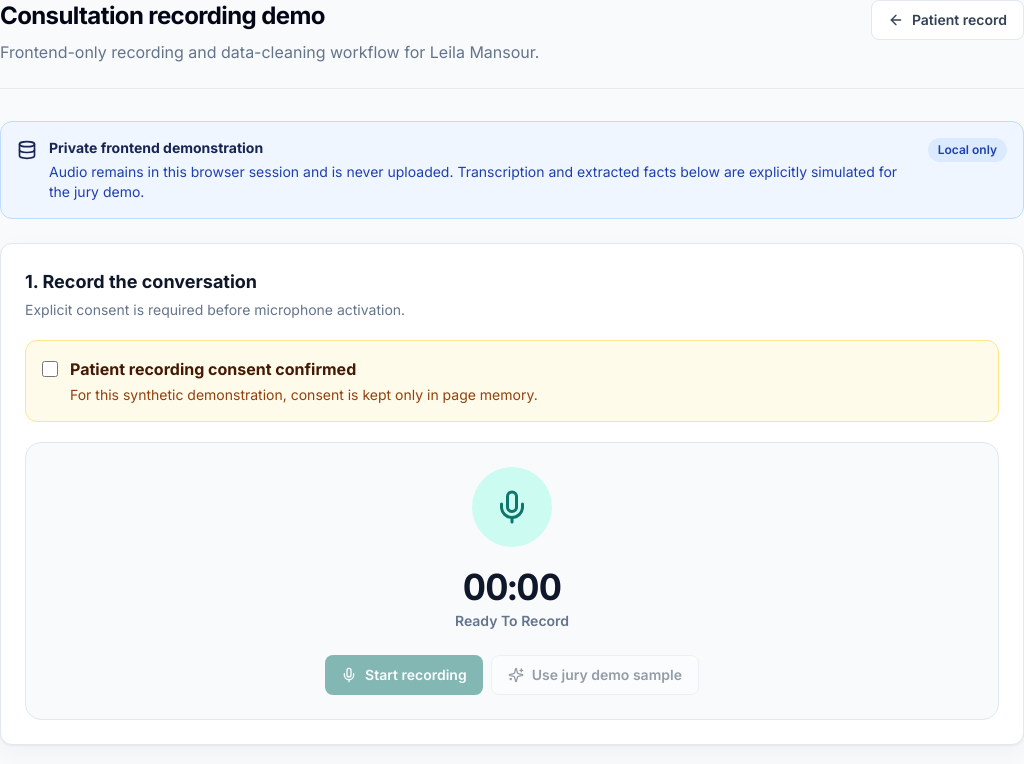
Test case: frontend-only consultation recording demo › requires consent and demonstrates raw-to-clean clinical data
Check: the heading "Consultation recording demo" is shown, box [0, 1, 325, 30]
Check: the button "Start recording" is disabled, box [325, 655, 483, 695]
What coordinates should you click on to do the following:
click the checkbox labelled "Patient recording consent confirmed"
I would click on:
 (50, 369)
Its box is [42, 361, 58, 377].
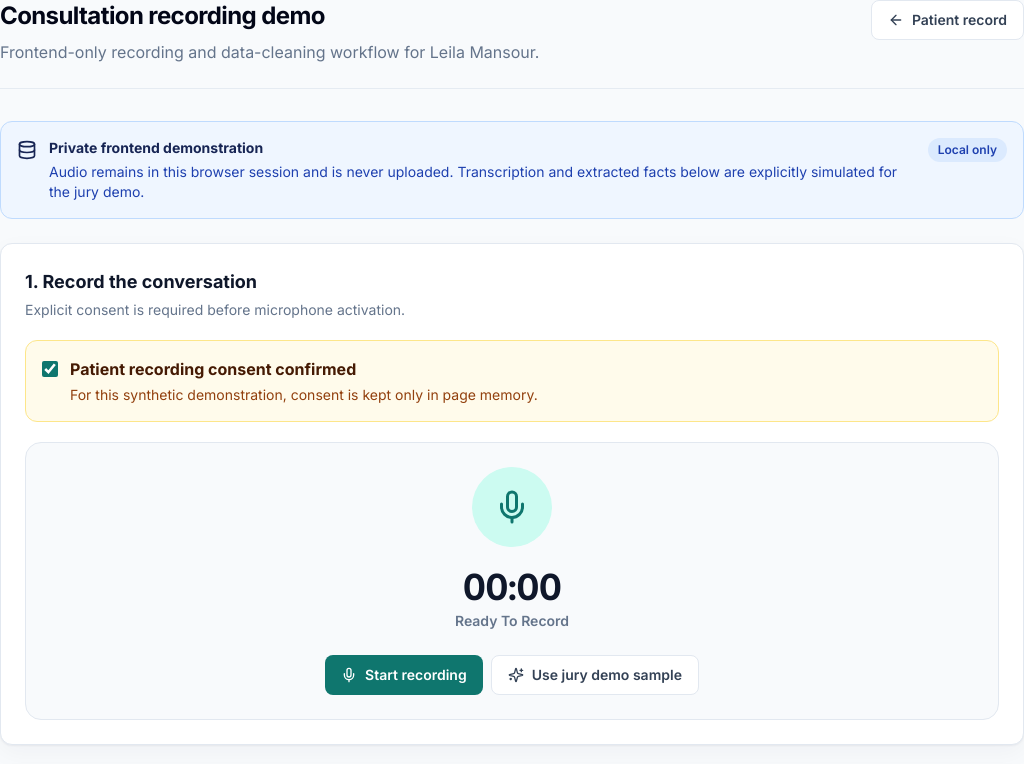
Check: the button "Start recording" is enabled, box [325, 655, 483, 695]
What coordinates should you click on to do the following:
click the button "Use jury demo sample"
I would click on:
 (595, 675)
Its box is [491, 655, 699, 695].
(page scrolled)
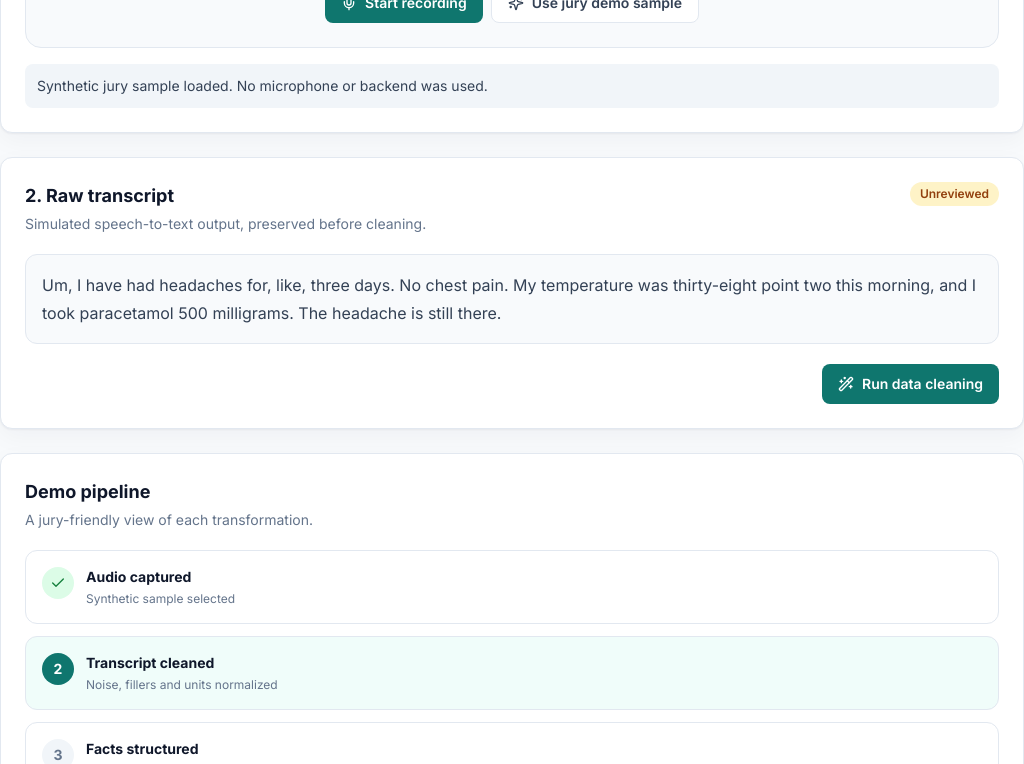
Check: the heading "2. Raw transcript" is shown, box [25, 185, 174, 206]
What coordinates should you click on to do the following:
click the button "Run data cleaning"
I would click on:
 (910, 384)
Its box is [822, 364, 999, 404].
(page scrolled)
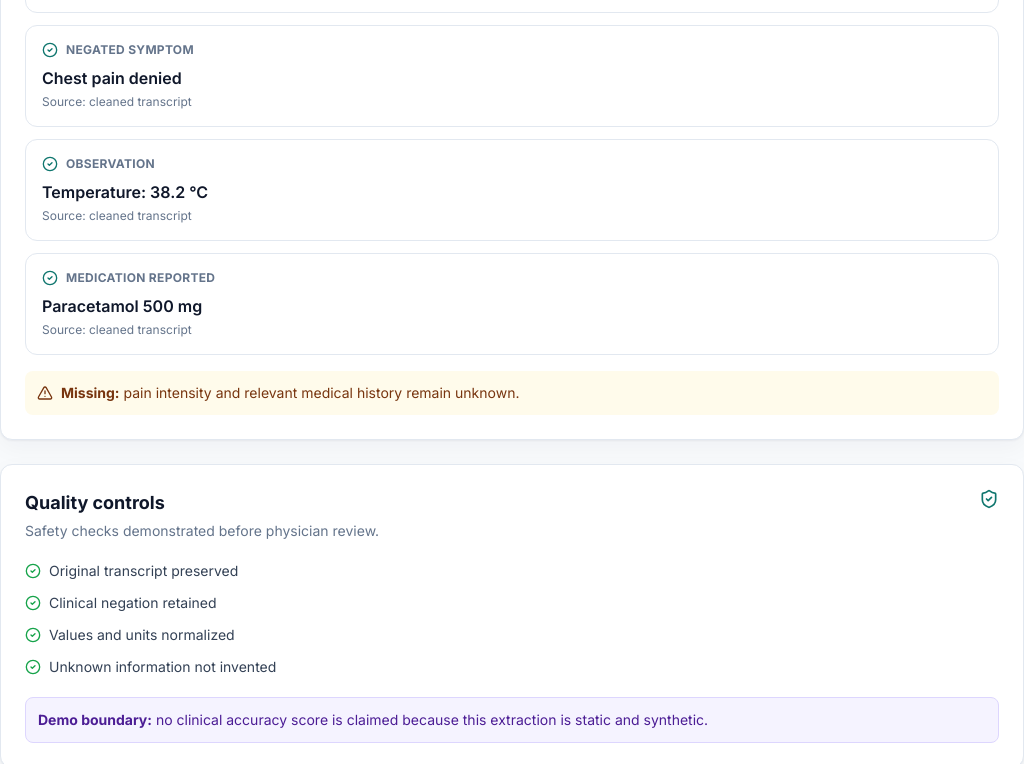
Check: the text "Chest pain denied" is shown 2 times
Check: the text "pain intensity and relevant medical history remain unknown" is shown, box [120, 384, 520, 401]
Check: the list item "Values and units normalized" is shown, box [25, 626, 235, 643]
